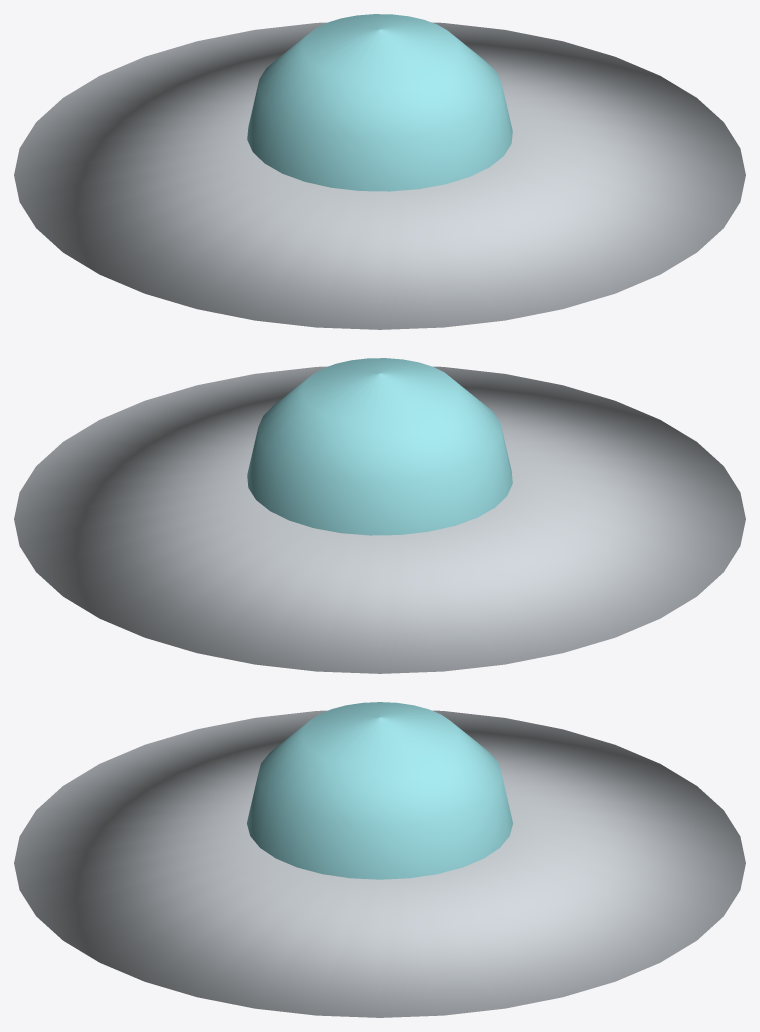
Rendered from saucer.glb.
3 views of the same model, one above another, from view 1: azimuth 30°, elevation 25°; view 2: azimuth 150°, elevation 25°; view 3: azimuth 270°, elevation 25° (orthographic).
Visible parts, largest first — view 1: saucer; view 2: saucer; view 3: saucer.
Part boxes in pixels (<box>): saucer: <box>14,14,745,329</box>; saucer: <box>14,358,745,673</box>; saucer: <box>14,702,745,1017</box>.
Size of the model in its own units: 3 by 0.84 by 3.
